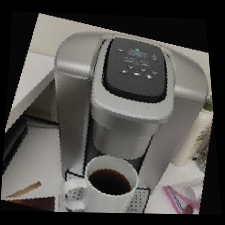10oz: (133, 72, 140, 77)
12oz: (145, 73, 153, 81)
4oz: (127, 64, 134, 70)
6oz: (140, 67, 147, 72)
8oz: (121, 70, 129, 76)
coffee_handle: (105, 107, 158, 126)
water_handle: (56, 69, 90, 82)
